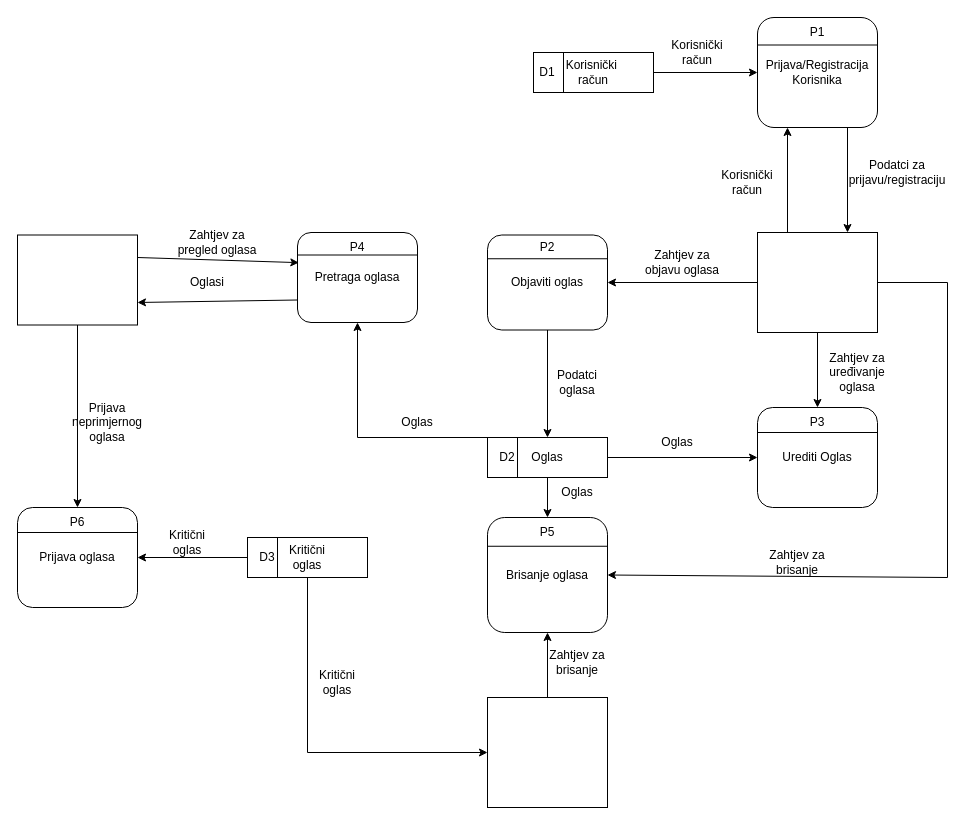
Image size: 973x825. Some labels were removed from this diagram. Each missing label, with the centre of its shape:
"Administrator" belongs at point 547,752.
"Korisnik" belongs at point 77,279.
"Stvaratelj oglasa" belongs at point 817,282.
